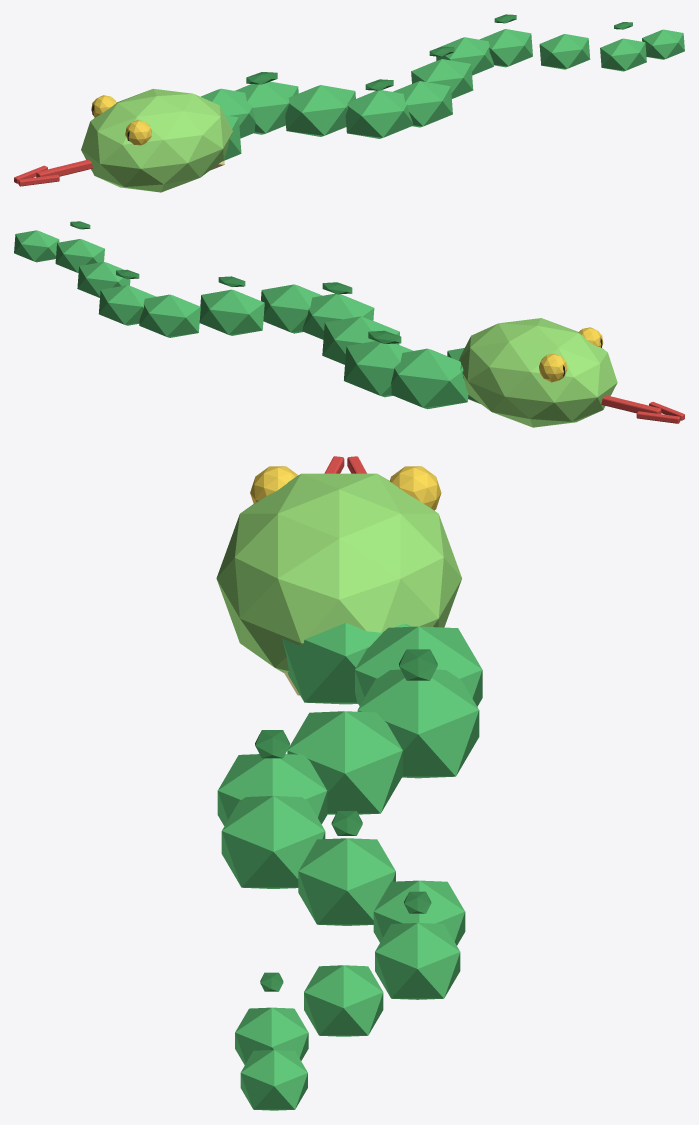
File: Snake.fbx
3 renders of one model, top to bottom at view 1: azimuth 30°, elevation 25°; view 2: azimuth 150°, elevation 25°; view 3: azimuth 270°, elevation 25°, orthographic. The views are drawn at different scales.
Visible parts, largest first — view 1: SnakeHead, SnakeSegment_03, SnakeSegment_04, SnakeSegment_02, SnakeSegment_05, SnakeSegment_06, SnakeSegment_09, SnakeSegment_08, SnakeSegment_10, SnakeSegment_01, SnakeSegment_07, SnakeSegment_11 (+6 smaller); view 2: SnakeHead, SnakeSegment_01, SnakeSegment_02, SnakeSegment_06, SnakeSegment_07, SnakeSegment_05, SnakeSegment_03, SnakeSegment_04, SnakeSegment_08, SnakeSegment_09, SnakeSegment_10, SnakeSegment_11 (+4 smaller); view 3: SnakeHead, SnakeSegment_02, SnakeSegment_03, SnakeSegment_05, SnakeSegment_06, SnakeSegment_08, SnakeSegment_00, SnakeSegment_01, SnakeSegment_09, SnakeSegment_04, SnakeSegment_11, SnakeSegment_07 (+4 smaller).
Boxes of the visible parts, x1,y1,x2,y2 form: SnakeHead: [81, 88, 232, 192]; SnakeSegment_03: [285, 85, 355, 136]; SnakeSegment_04: [345, 90, 413, 138]; SnakeSegment_02: [235, 81, 298, 134]; SnakeSegment_05: [393, 81, 452, 127]; SnakeSegment_06: [411, 59, 473, 98]; SnakeSegment_09: [539, 34, 590, 69]; SnakeSegment_08: [479, 29, 532, 67]; SnakeSegment_10: [600, 38, 646, 71]; SnakeSegment_01: [201, 88, 255, 138]; SnakeSegment_07: [436, 37, 493, 75]; SnakeSegment_11: [642, 29, 684, 59]; SnakeHead: [459, 318, 617, 427]; SnakeSegment_01: [391, 348, 468, 409]; SnakeSegment_02: [344, 341, 413, 397]; SnakeSegment_06: [199, 289, 264, 335]; SnakeSegment_07: [139, 294, 200, 337]; SnakeSegment_05: [261, 284, 322, 333]; SnakeSegment_03: [322, 316, 399, 364]; SnakeSegment_04: [302, 293, 374, 339]; SnakeSegment_08: [98, 285, 156, 325]; SnakeSegment_09: [77, 262, 130, 297]; SnakeSegment_10: [55, 239, 104, 272]; SnakeSegment_11: [14, 230, 59, 262]; SnakeHead: [216, 473, 461, 672]; SnakeSegment_02: [357, 669, 479, 778]; SnakeSegment_03: [287, 711, 402, 814]; SnakeSegment_05: [221, 796, 325, 888]; SnakeSegment_06: [298, 838, 395, 925]; SnakeSegment_08: [375, 923, 460, 999]; SnakeSegment_00: [282, 622, 410, 704]; SnakeSegment_01: [355, 626, 482, 706]; SnakeSegment_09: [304, 965, 383, 1036]; SnakeSegment_04: [217, 754, 327, 825]; SnakeSegment_11: [240, 1050, 307, 1110]; SnakeSegment_07: [373, 880, 465, 945].
Bounding box in the file's own units: 2.32 × 0.304 × 0.4115.
